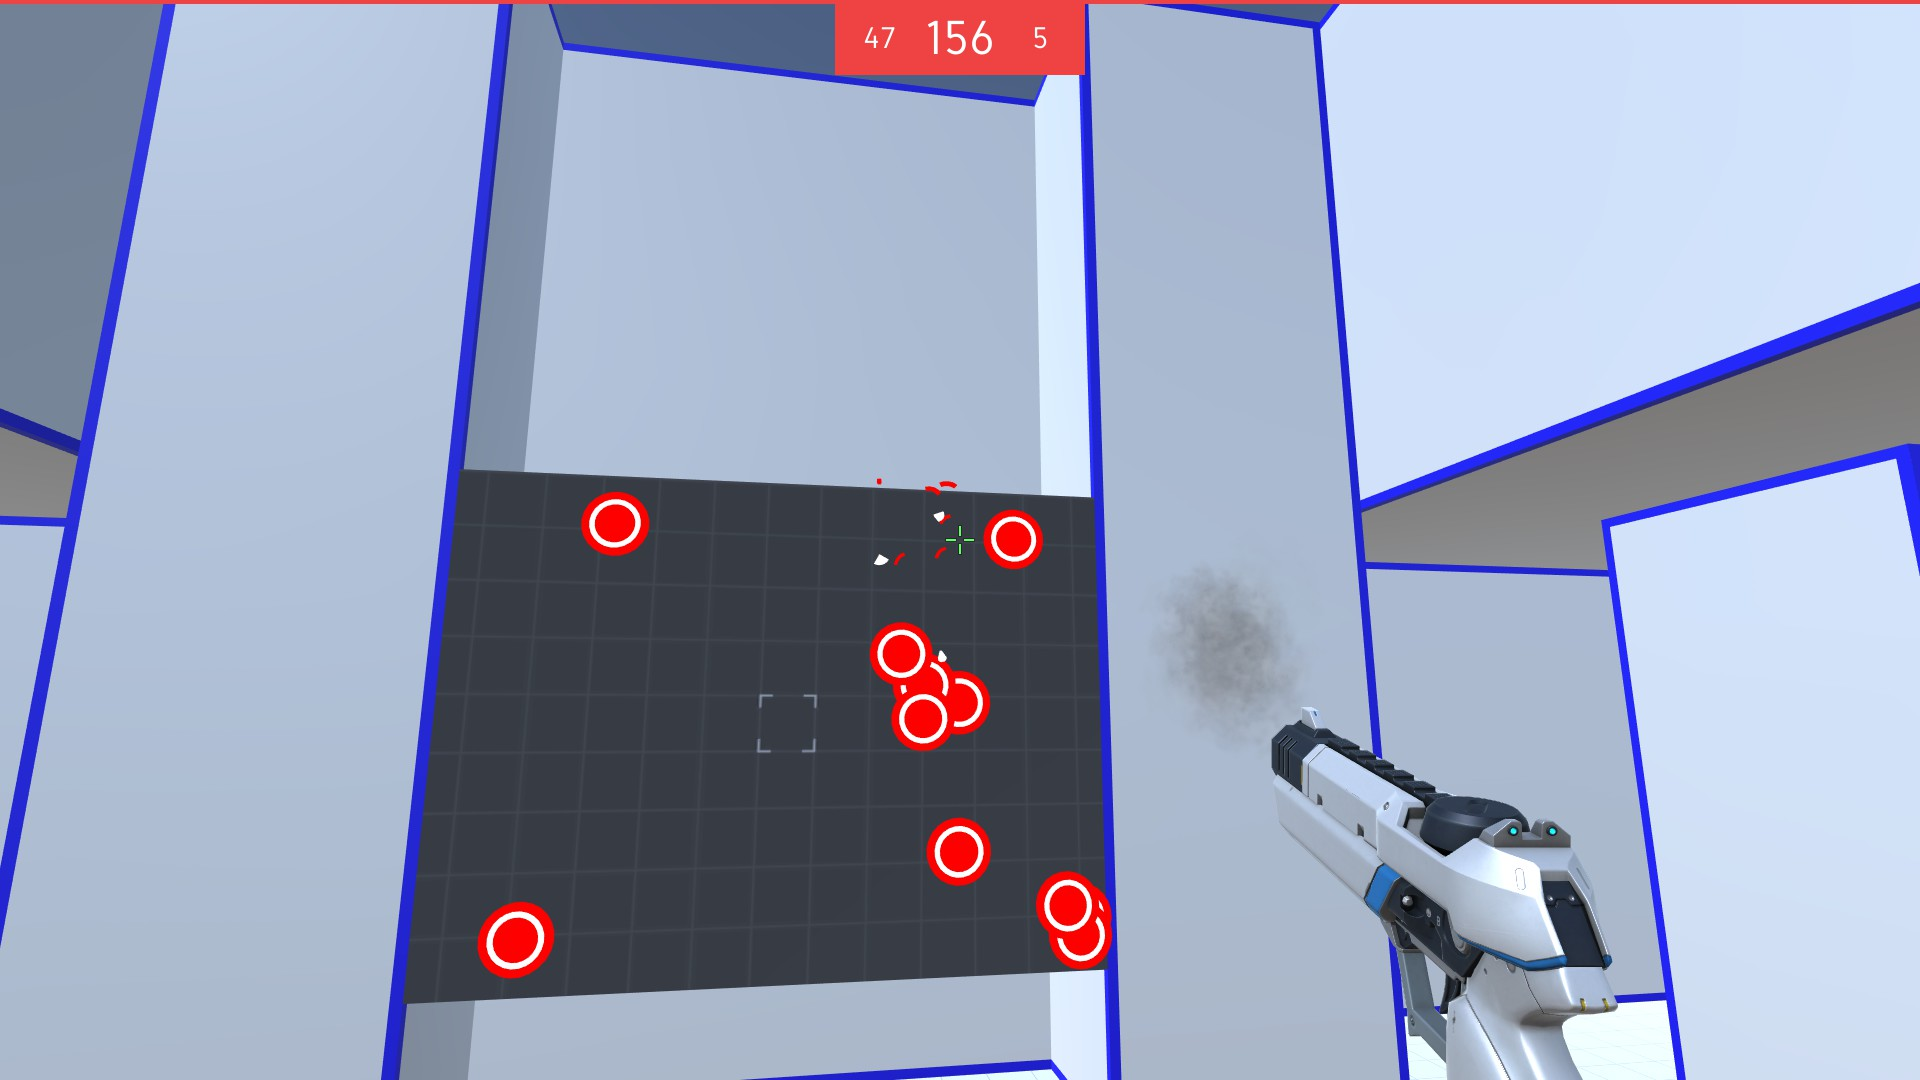target: (476, 899, 556, 978), (928, 814, 996, 890), (579, 492, 650, 559), (936, 669, 996, 737), (982, 509, 1044, 574), (1034, 869, 1095, 935), (893, 688, 952, 756), (1043, 911, 1112, 969), (872, 622, 928, 683)
